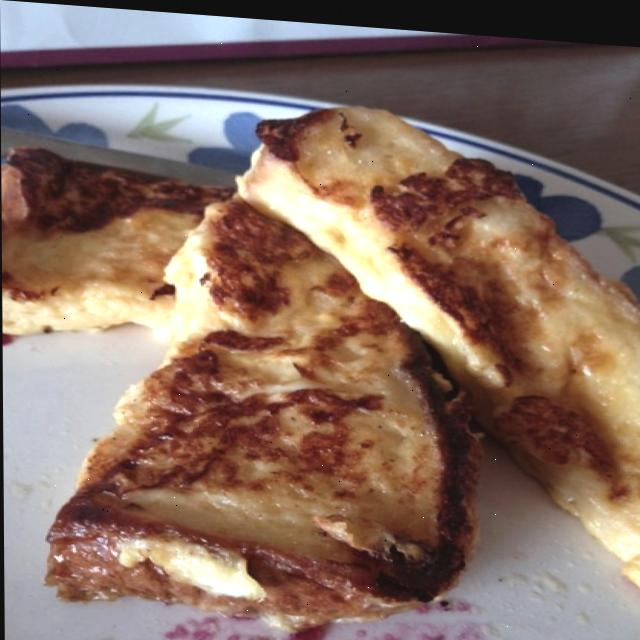面包点心: (16, 49, 640, 640)
